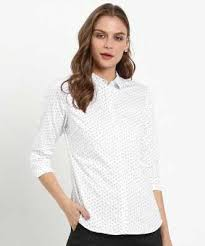C_shirt: (29, 60, 165, 234)
